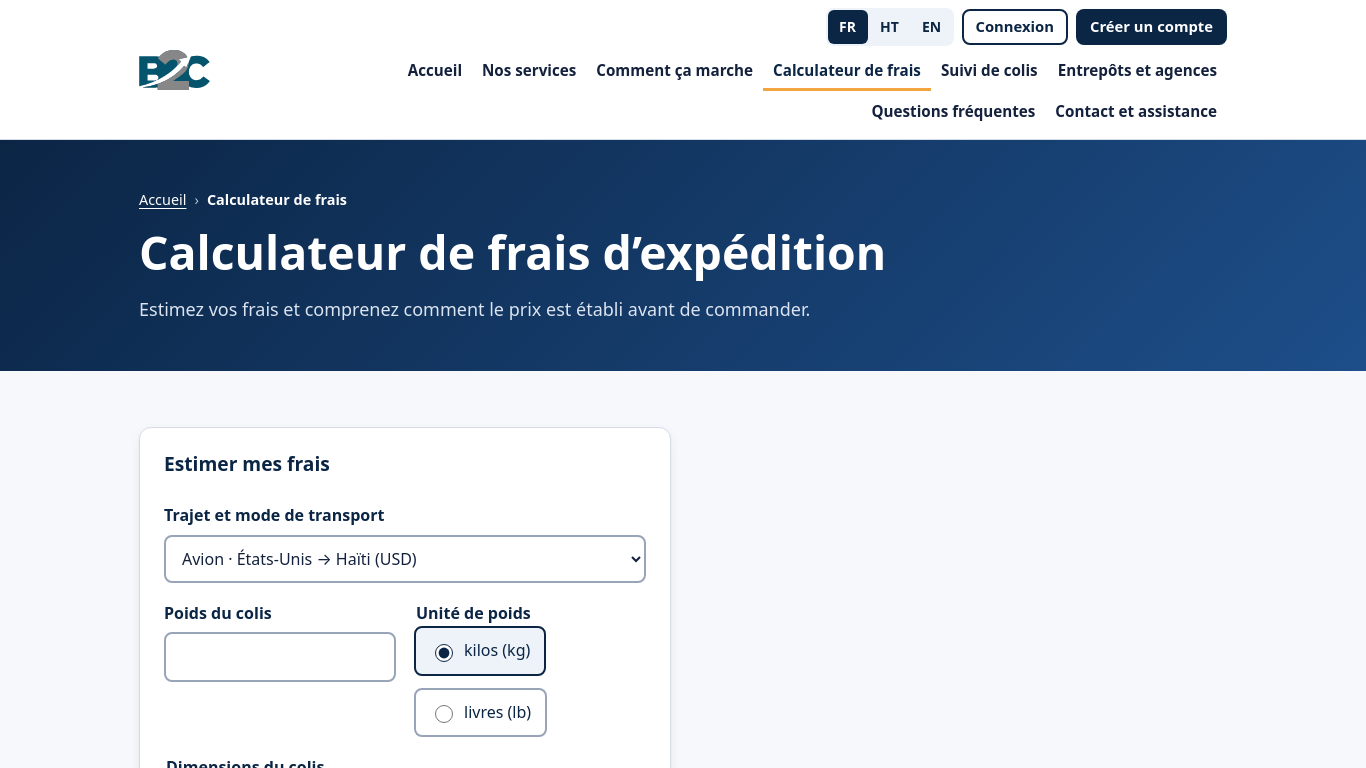
Scenario: calculateur de frais › estime les frais : envoie des mesures en nombres, affiche le détail et le total
Type "2,3" into the field labelled "Poids du colis" at (280,657), box [164, 632, 396, 682]
(page scrolled)
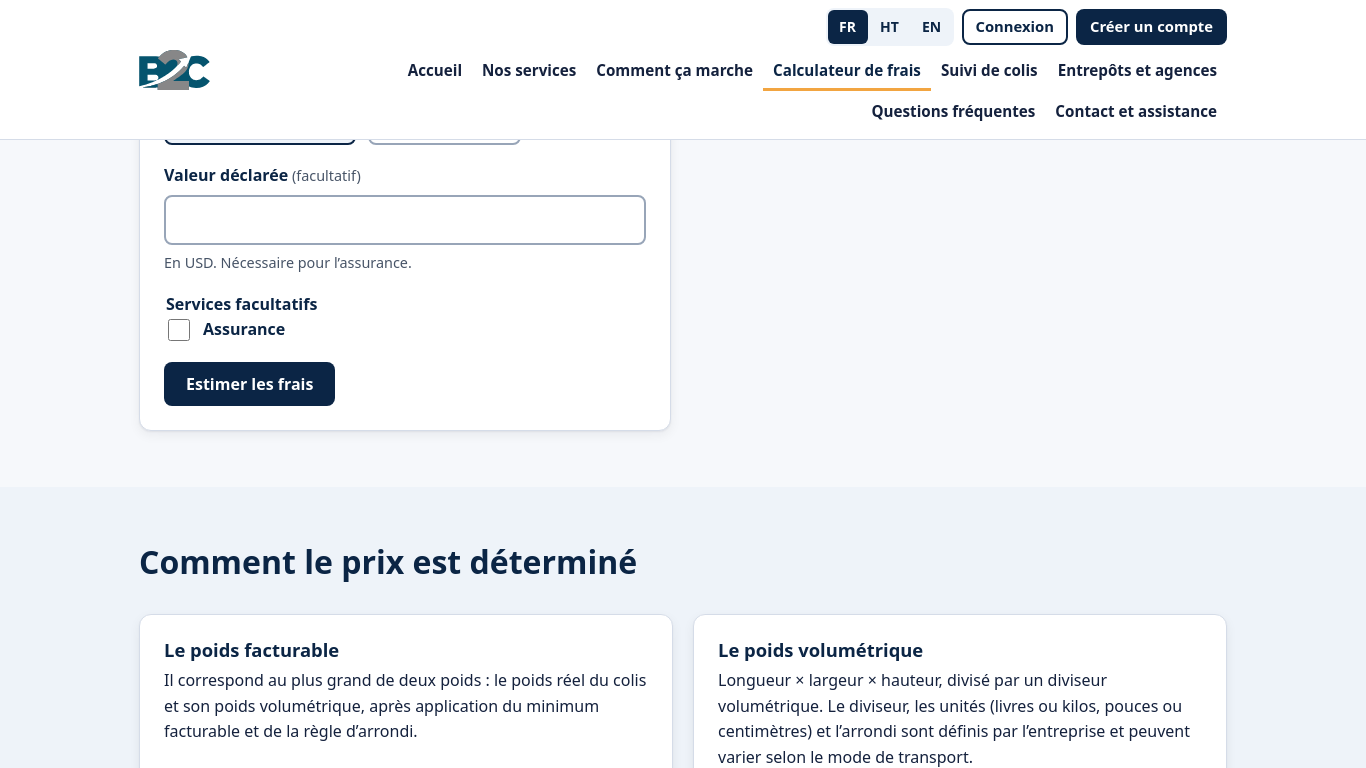
Click the button "Estimer les frais" at (250,384), box [164, 362, 335, 406]
(page scrolled)
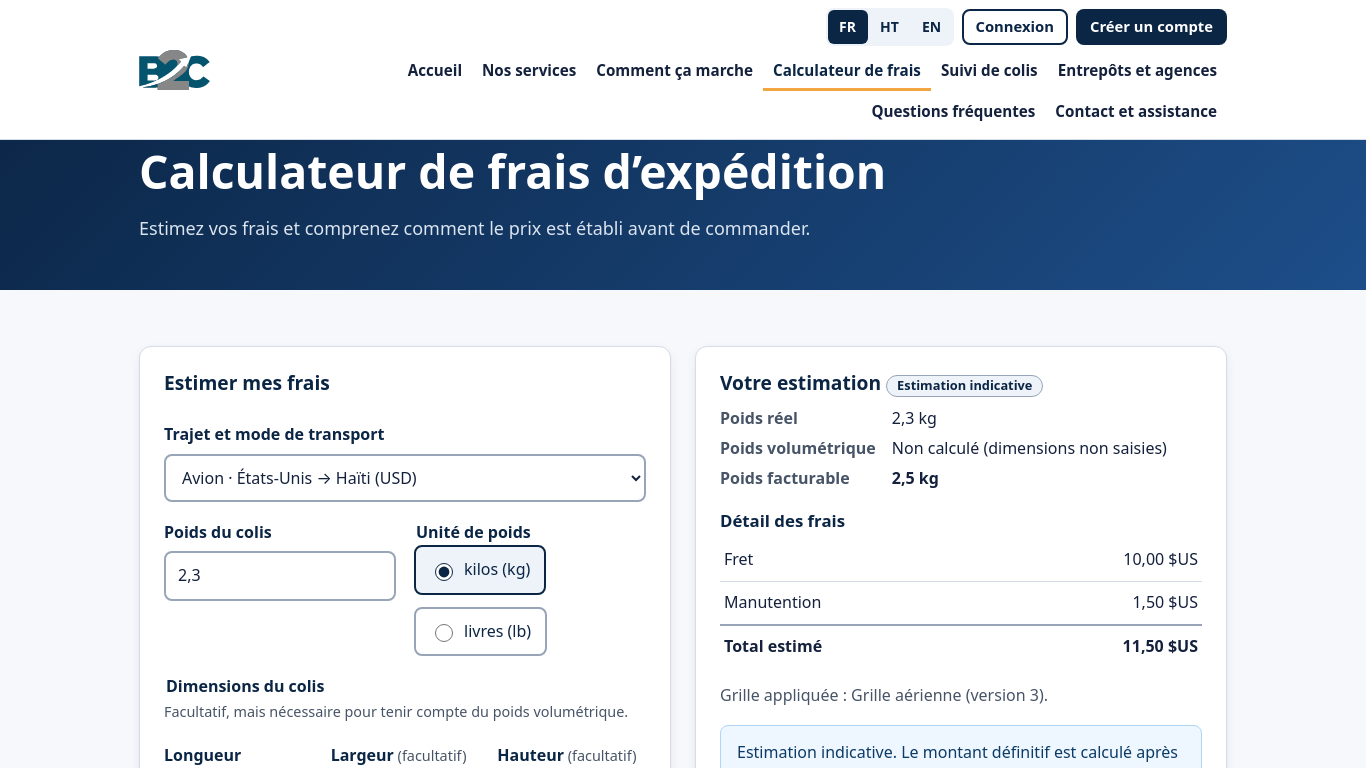
Expected: the text "Estimation indicative" is shown, [886, 376, 1043, 397]
Expected: the text with test id "billable-weight" reads "2,5 kg", [892, 467, 939, 489]
Expected: the cell with test id "quote-total" shows "11,50", [1123, 634, 1198, 656]
